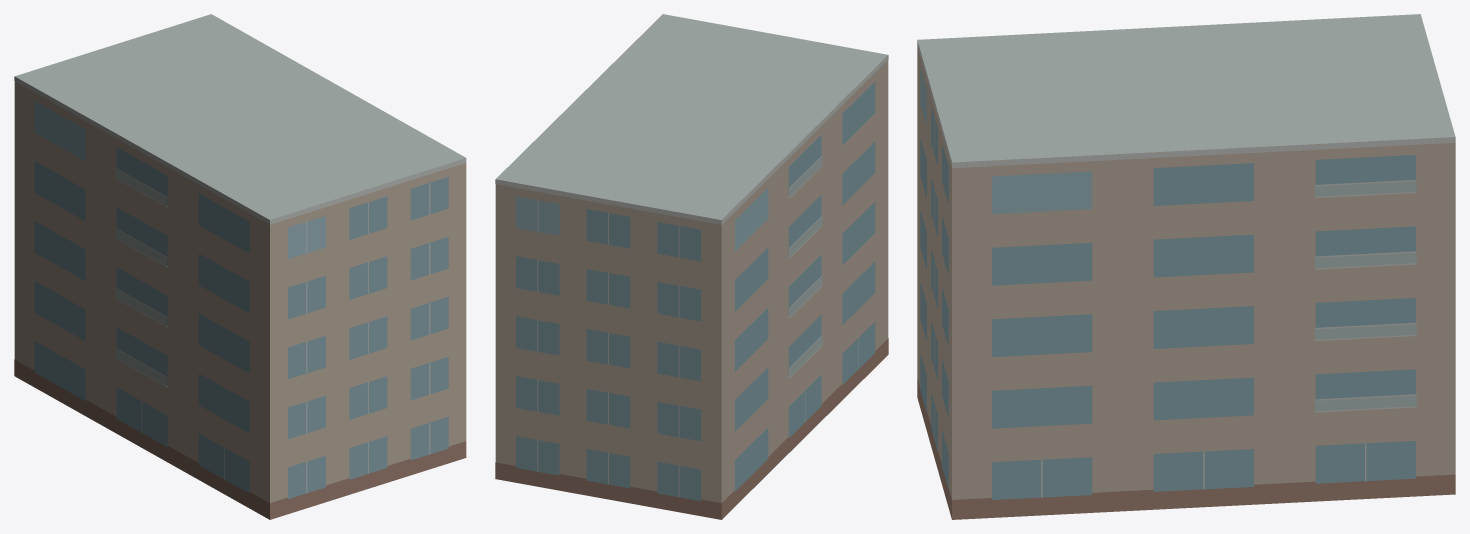
The model's file is survey-upis-32621070.glb.
3 renders of one model, left to right at view 1: azimuth 30°, elevation 25°; view 2: azimuth 150°, elevation 25°; view 3: azimuth 270°, elevation 25°, orthographic. The views are drawn at different scales.
Parts seen in each view (by area): view 1: survey-upis-32621070.tmp; view 2: survey-upis-32621070.tmp; view 3: survey-upis-32621070.tmp.
Part boxes in pixels (bbox=[...]): survey-upis-32621070.tmp: bbox=[14, 14, 466, 519]; survey-upis-32621070.tmp: bbox=[495, 14, 888, 519]; survey-upis-32621070.tmp: bbox=[917, 14, 1455, 519].
Size of the model in its own units: 13.55 by 15.2 by 20.76.
